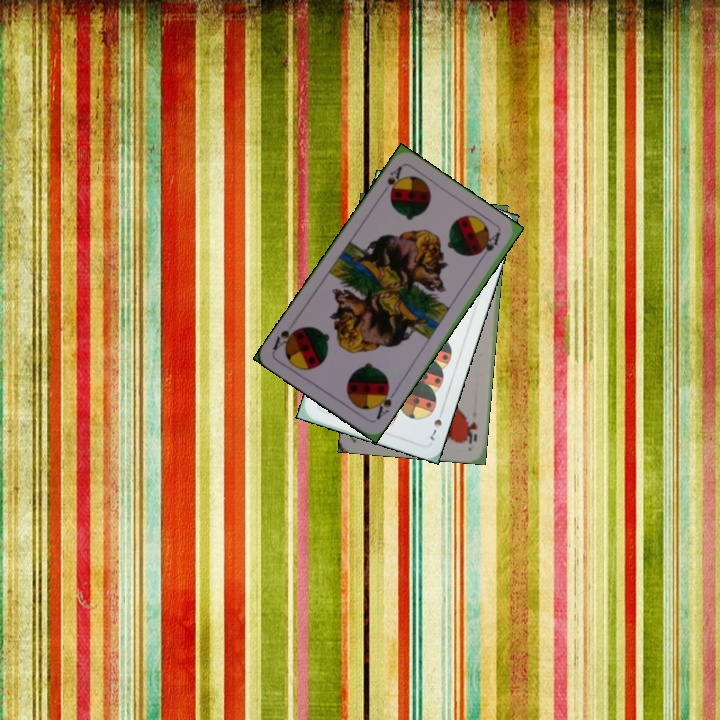HO: (463, 417, 480, 446)
S7: (426, 415, 444, 443)
SA: (370, 383, 399, 422), (377, 162, 405, 200)
